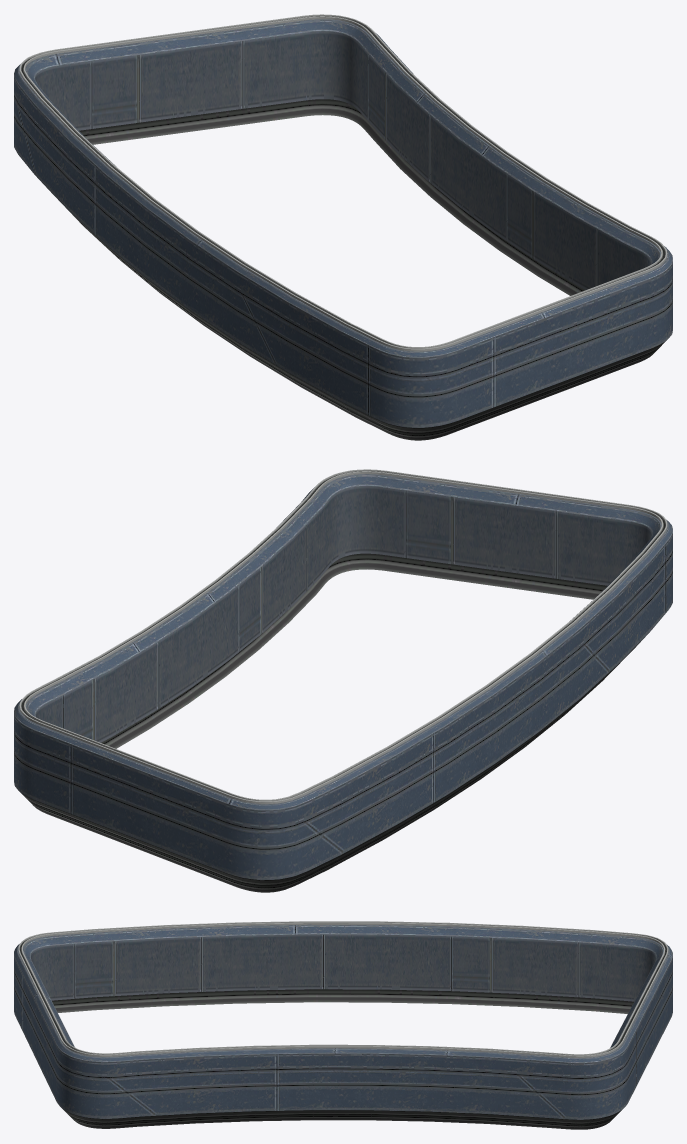
Rendered from Club_VIPFloorTrim_03.FBX.
3 views of the same model, one above another, from view 1: azimuth 30°, elevation 25°; view 2: azimuth 150°, elevation 25°; view 3: azimuth 270°, elevation 25° (orthographic). The views are drawn at different scales.
Visible parts, largest first — view 1: Club_VIPFloorTrim_03; view 2: Club_VIPFloorTrim_03; view 3: Club_VIPFloorTrim_03.
Boxes of the visible parts, x1,y1,x2,y2 form: Club_VIPFloorTrim_03: (14,14,672,440); Club_VIPFloorTrim_03: (14,469,672,892); Club_VIPFloorTrim_03: (14,921,672,1129).
Size of the model in its own units: 9.46 by 2.46 by 18.94.
